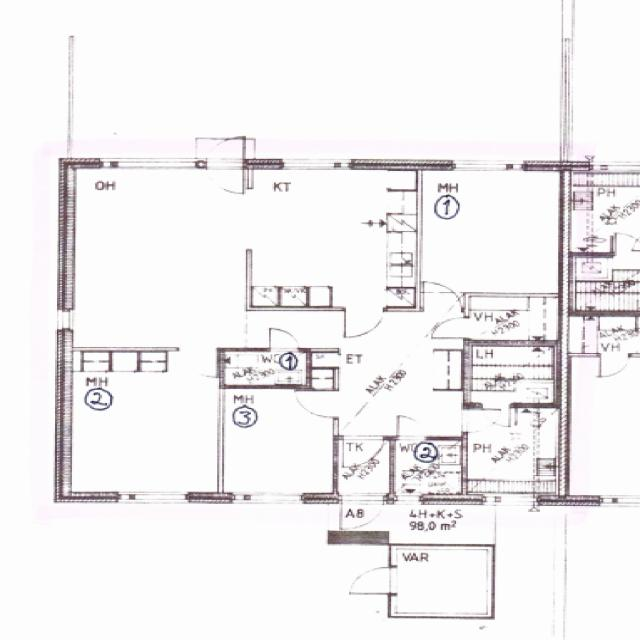door: (202, 134, 250, 196), (335, 434, 390, 474), (336, 493, 388, 532), (342, 563, 398, 598), (337, 305, 389, 342), (291, 387, 341, 420), (462, 404, 516, 432), (419, 279, 462, 312), (426, 315, 473, 343), (264, 326, 305, 354), (392, 412, 429, 442), (594, 353, 632, 380), (188, 356, 222, 380), (611, 231, 640, 253)
window: (105, 156, 202, 174), (113, 488, 195, 508), (229, 489, 309, 508), (276, 157, 354, 173), (448, 159, 526, 175), (481, 493, 537, 508), (594, 493, 640, 510), (52, 307, 78, 334), (392, 494, 424, 507)
zone: (64, 160, 250, 349), (244, 168, 422, 310), (58, 350, 222, 500), (418, 166, 564, 298), (337, 307, 466, 436), (222, 386, 338, 499), (463, 408, 561, 497), (390, 545, 494, 620), (564, 174, 640, 256), (463, 342, 562, 404), (462, 294, 561, 344), (566, 250, 640, 311), (392, 437, 464, 499), (218, 349, 311, 387), (565, 312, 640, 356), (334, 434, 391, 476)
